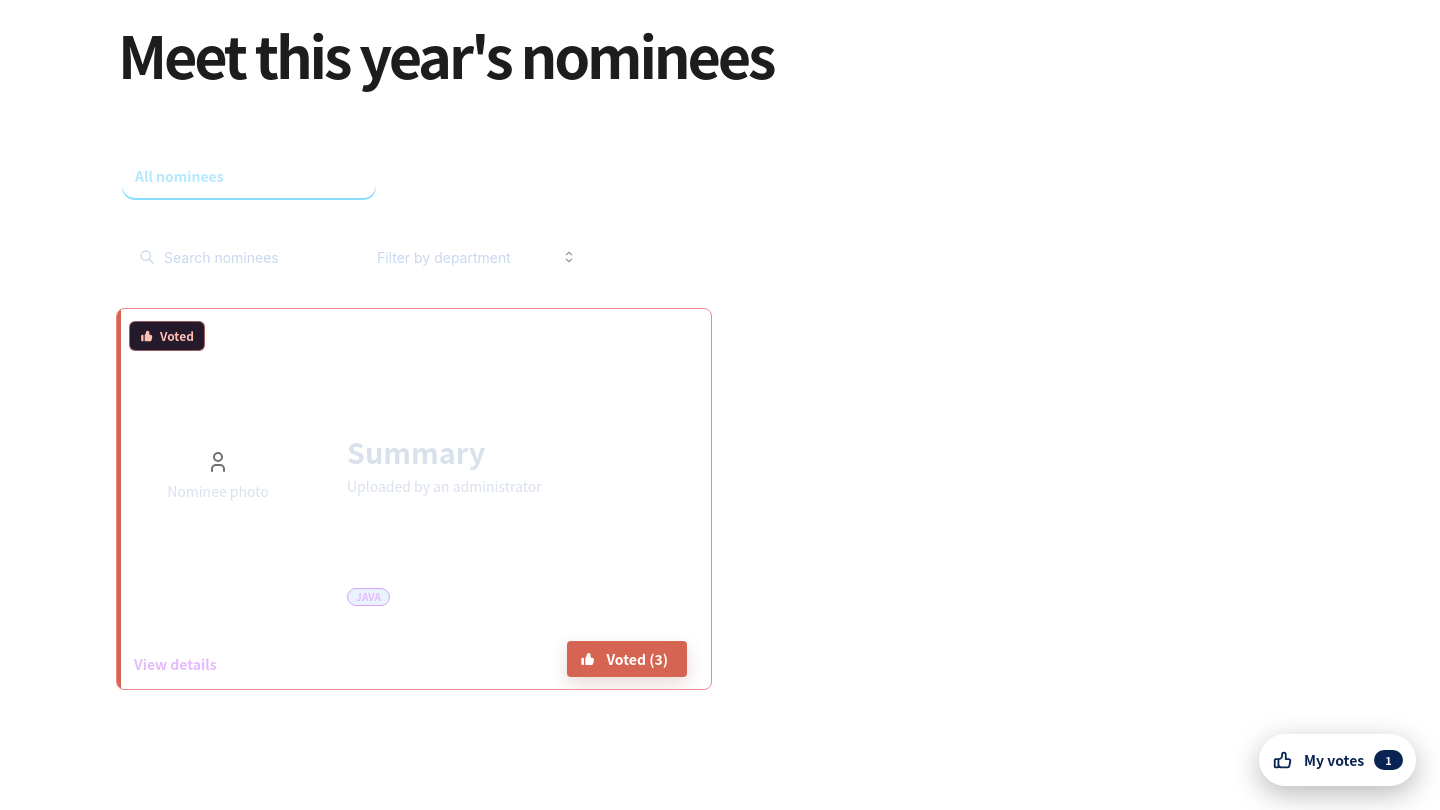
Test: ProjectShowcase › restores the filled card state for a vote returned by the API
Expected: the text "Voted" is shown, [160,330,194,342]
Click the button with aria-label "My votes (1)": coordinates (1338, 760) [1259,734,1416,786]
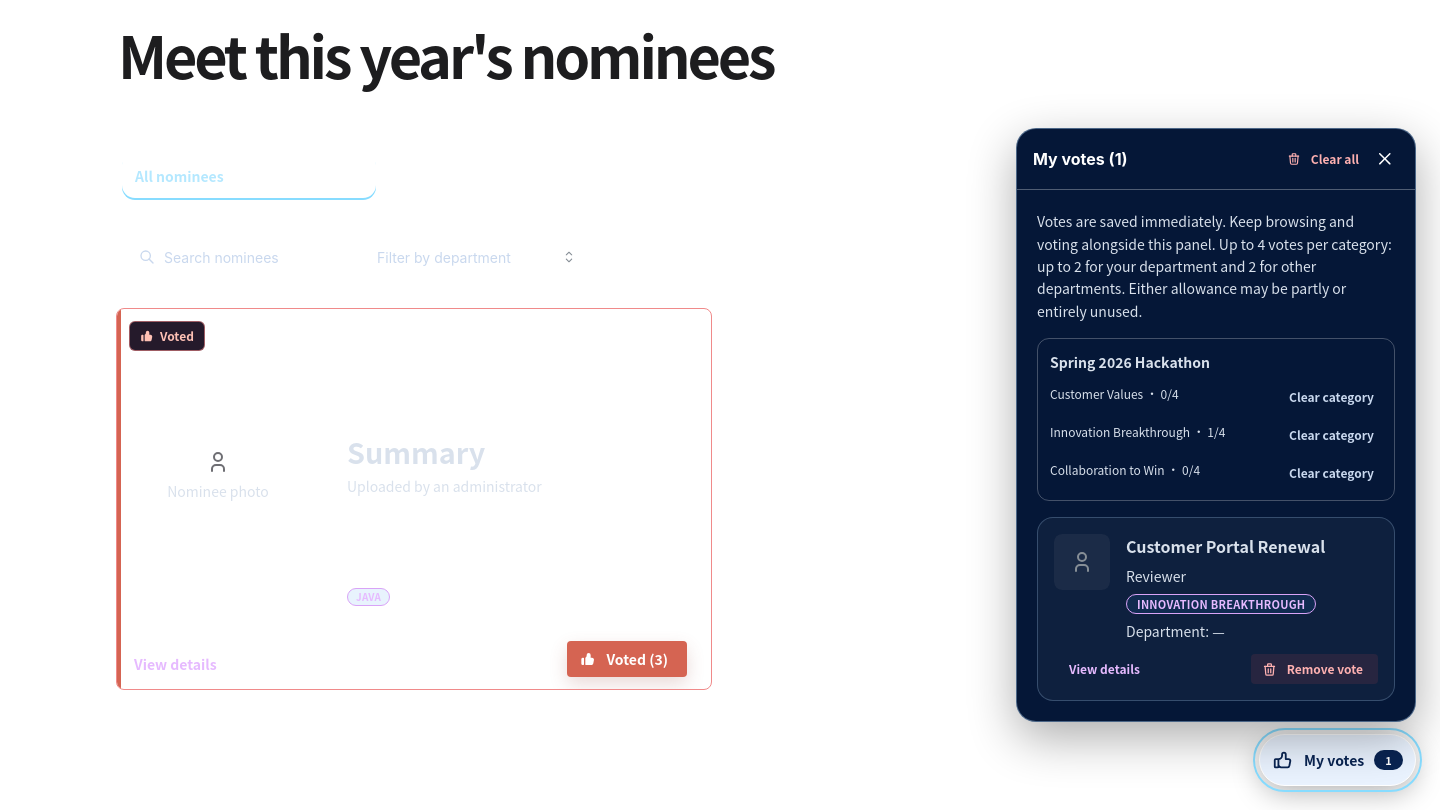
Expected: the text "Customer Portal Renewal" is shown, [1126,534,1325,558]
